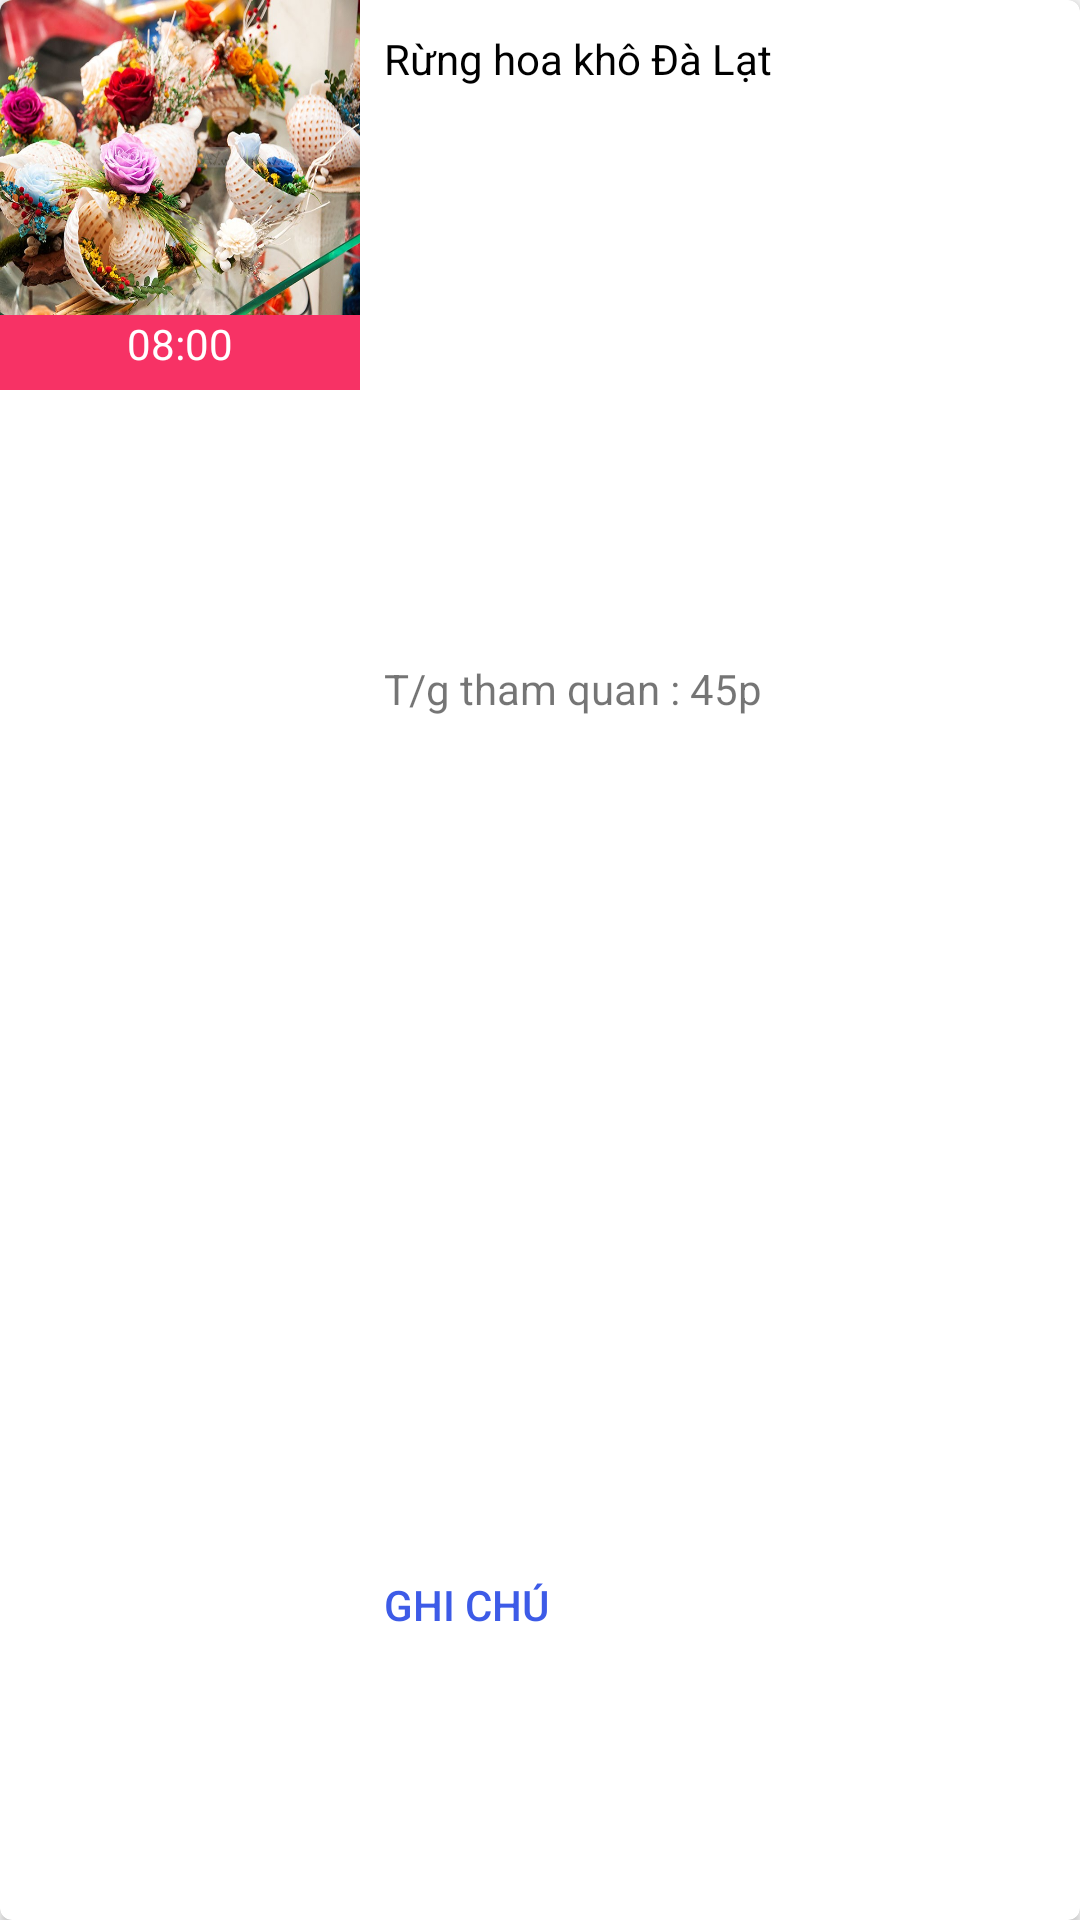

Icons on this 1080×1920 Android screen, each with the point to tap as (x,y):
hoadalat: (180,157)
